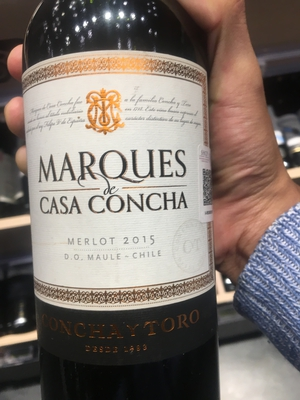marques de casa concha merlot: (20, 21, 226, 400)
